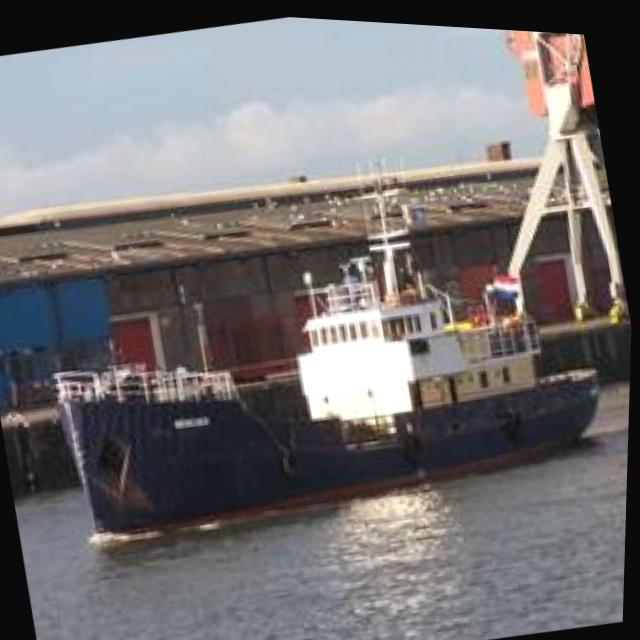ship2: (55, 176, 602, 539)
